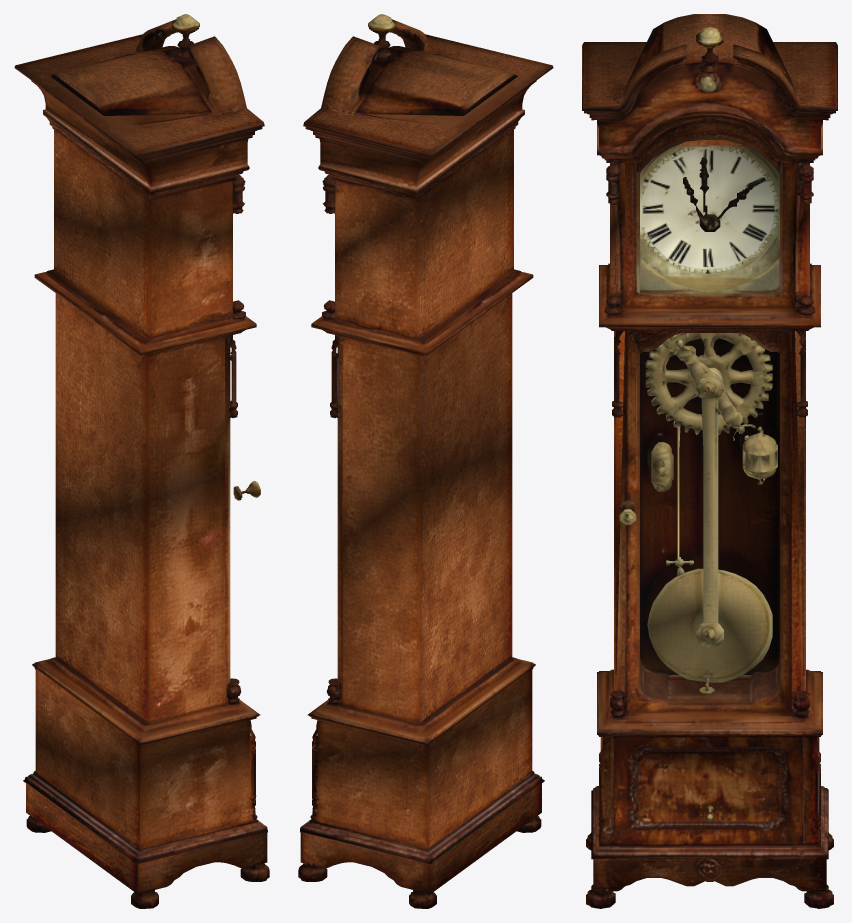
3 renders of one model, left to right at view 1: azimuth 30°, elevation 25°; view 2: azimuth 150°, elevation 25°; view 3: azimuth 270°, elevation 25°, orthographic. The views are drawn at different scales.
Visible parts, largest first — view 1: tripo_node_18b31918-a38e-468f-ba00-792f60087f5d; view 2: tripo_node_18b31918-a38e-468f-ba00-792f60087f5d; view 3: tripo_node_18b31918-a38e-468f-ba00-792f60087f5d.
Part boxes in pixels (box(x1,y1,x2,y2)): tripo_node_18b31918-a38e-468f-ba00-792f60087f5d: box(14, 14, 269, 908); tripo_node_18b31918-a38e-468f-ba00-792f60087f5d: box(298, 14, 553, 908); tripo_node_18b31918-a38e-468f-ba00-792f60087f5d: box(582, 14, 837, 908).
Bounding box in the file's own units: 0.1816 × 0.998 × 0.2676.
Materials: 1 (1 with a texture image).
